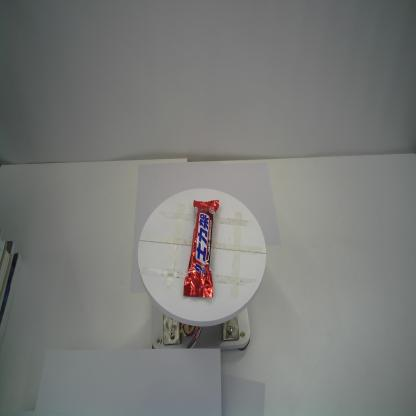Chocolate: (183, 200, 220, 298)
